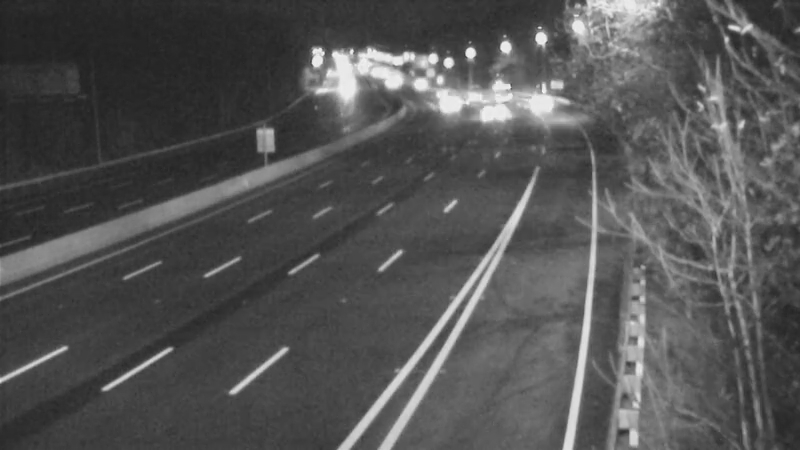vehicle: (394, 62, 444, 112), (477, 66, 527, 116), (447, 74, 497, 124), (512, 79, 562, 129), (419, 79, 469, 129), (463, 87, 513, 137)
